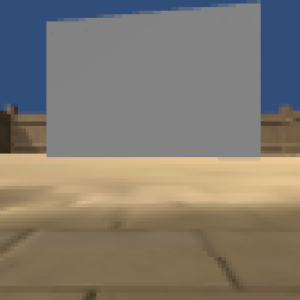wall: (40, 4, 270, 163)
